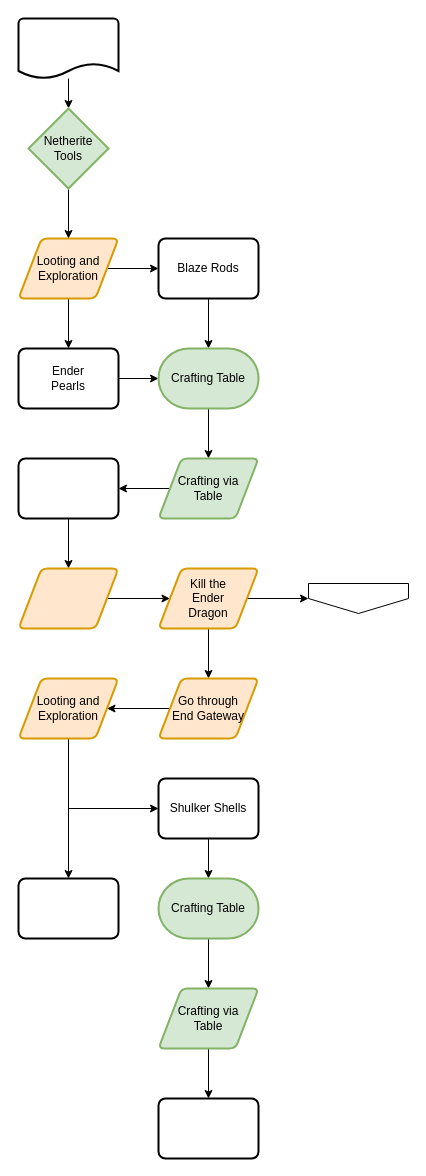
Image size: 426x1176. Some labels were removed from this diagram. Here are the shapes that lost their labels. From the top down, the centre of each, then its label:
pixel 68 48: Neo Age
pixel 68 488: Eye of Enders
pixel 68 598: Find End Portal
pixel 358 598: Game Complete
pixel 68 908: Elytra
pixel 208 1128: Shulker Boxes
